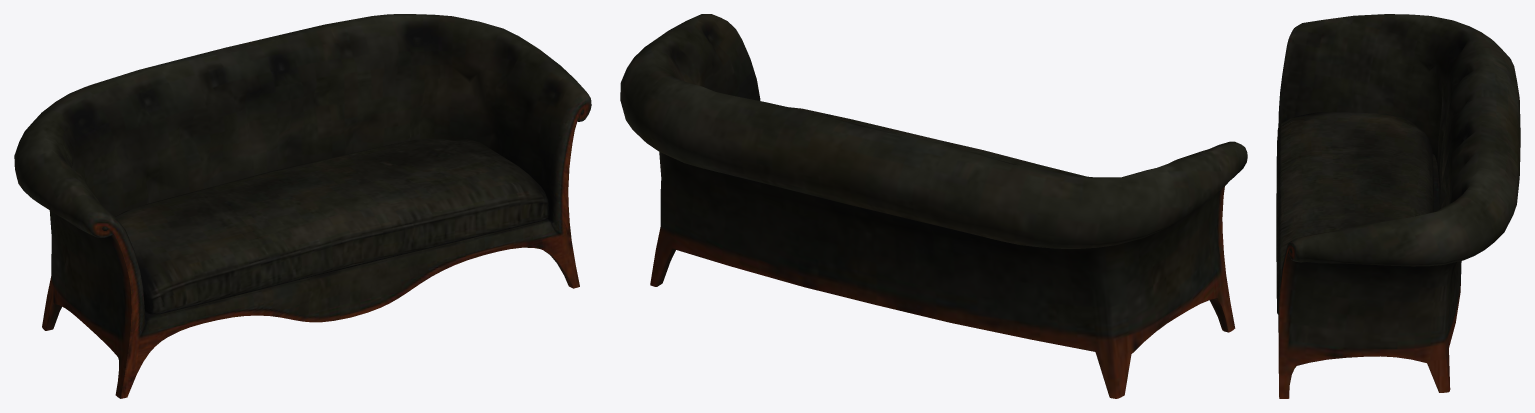
The model's file is sofa_02.glb.
3 renders of one model, left to right at view 1: azimuth 30°, elevation 25°; view 2: azimuth 150°, elevation 25°; view 3: azimuth 270°, elevation 25°, orthographic. The views are drawn at different scales.
Parts seen in each view (by area): view 1: sofa_02_Base, sofa_02_Seat; view 2: sofa_02_Base, sofa_02_Seat; view 3: sofa_02_Base, sofa_02_Seat.
Boxes of the visible parts, x1,y1,x2,y2 form: sofa_02_Base: (14,14,591,398); sofa_02_Seat: (115,139,549,314); sofa_02_Base: (620,14,1247,398); sofa_02_Seat: (789,107,1086,176); sofa_02_Base: (1278,14,1520,398); sofa_02_Seat: (1276,112,1433,314).
Size of the model in its own units: 1.81 by 0.7095 by 0.8178.
Materials: 1 (1 with a texture image).
